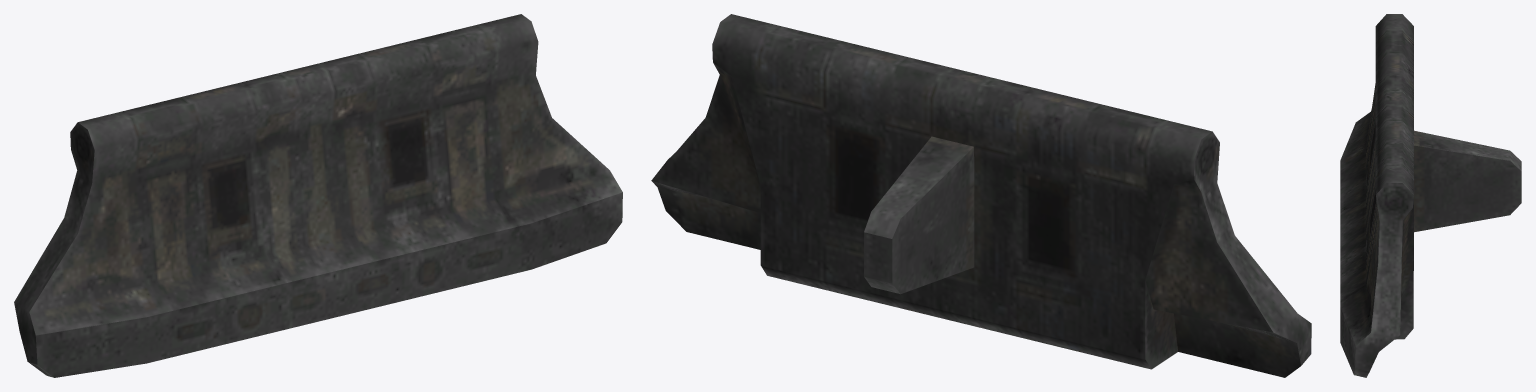
3 views of the same model, side by side, from view 1: azimuth 30°, elevation 25°; view 2: azimuth 150°, elevation 25°; view 3: azimuth 270°, elevation 25° (orthographic). The views are drawn at different scales.
Visible parts, largest first — view 1: set_0_group_0; view 2: set_0_group_0; view 3: set_0_group_0.
Boxes of the visible parts, bbox=[...] form: set_0_group_0: bbox=[14, 14, 622, 377]; set_0_group_0: bbox=[651, 14, 1311, 377]; set_0_group_0: bbox=[1340, 14, 1521, 377].
Size of the model in its own units: 0.5071 by 0.1836 by 0.1728.
1 material, 1 textured.
